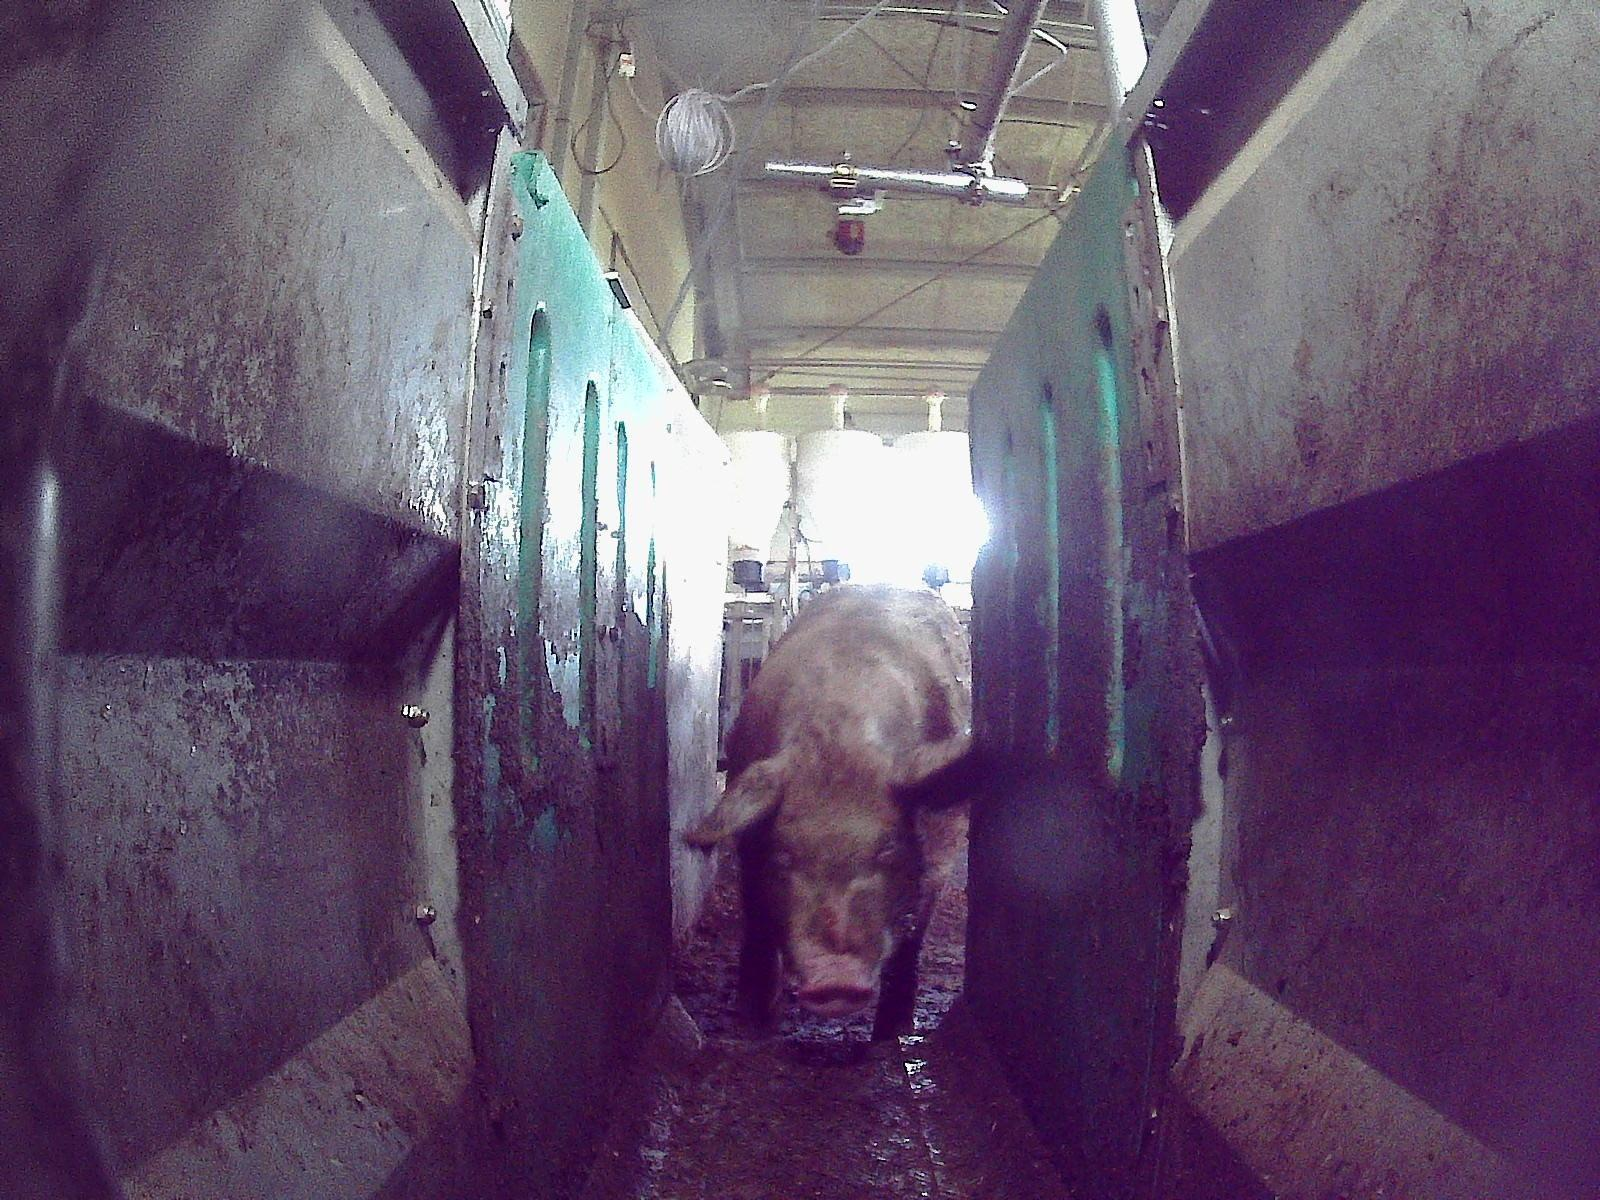Face: (749, 739, 916, 1014)
